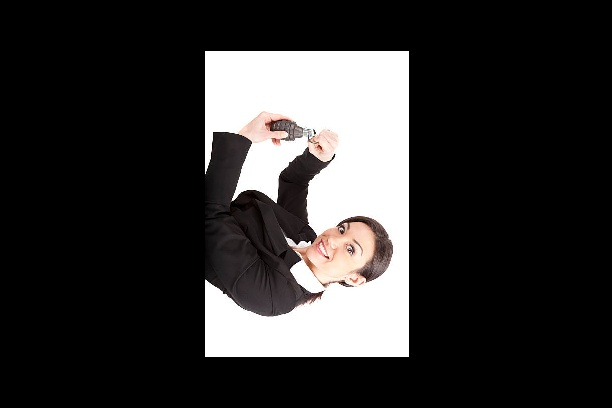e1: (265, 114, 318, 142)
